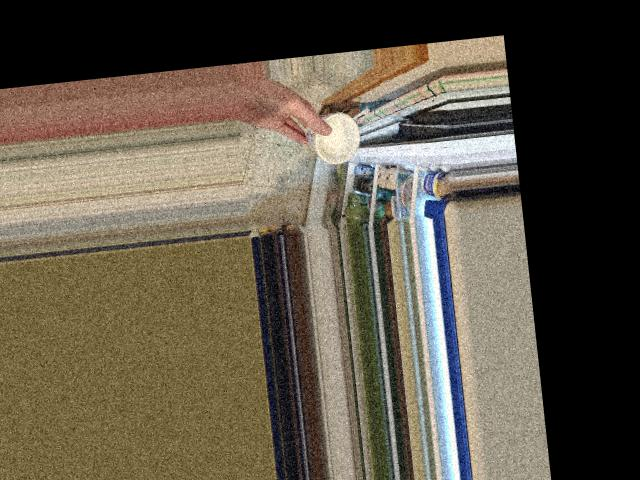cotage: (300, 107, 368, 164)
